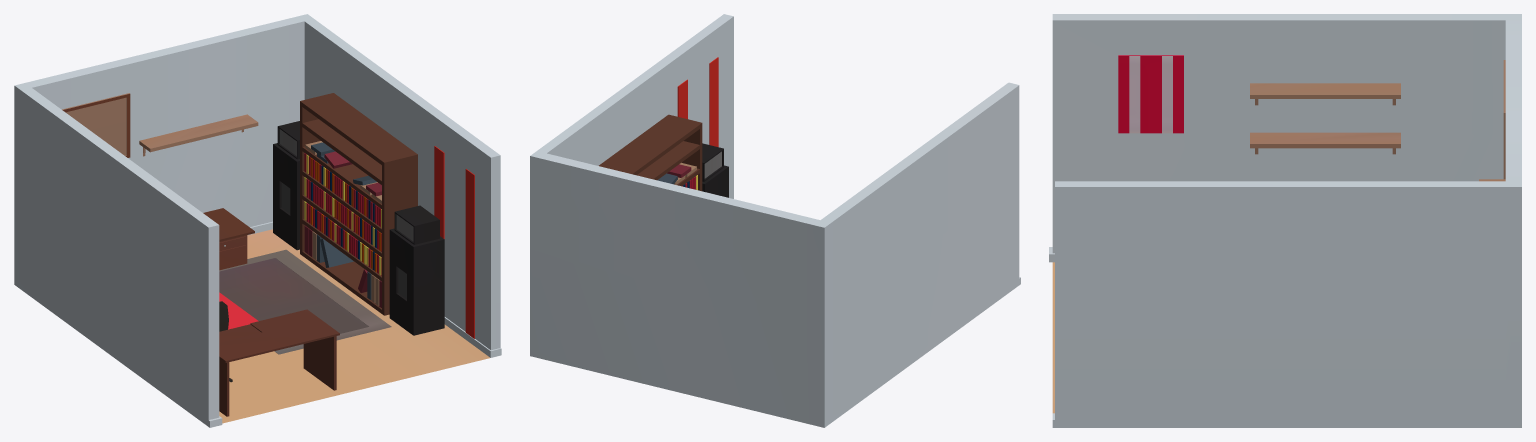
The model's file is bedroom.glb.
3 views of the same model, side by side, from view 1: azimuth 30°, elevation 25°; view 2: azimuth 150°, elevation 25°; view 3: azimuth 270°, elevation 25° (orthographic). The views are drawn at different scales.
Parts seen in each view (by area): view 1: Cube, Plane.002, Plane.003, Plane.005, Cube.005, Plane.004, Cube.004, Cube.002, Cube.003, Plane.001, Plane; view 2: Cube, Plane.002, Cube.005, Plane.005; view 3: Cube, Cube.001, Cube.003.
Boxes of the visible parts, left/top/right/bottom form: Cube: left=14, top=14, right=501, bottom=427; Plane.002: left=300, top=93, right=417, bottom=315; Plane.003: left=219, top=249, right=391, bottom=354; Plane.005: left=304, top=141, right=381, bottom=307; Cube.005: left=389, top=205, right=444, bottom=335; Plane.004: left=219, top=309, right=339, bottom=416; Cube.004: left=273, top=121, right=299, bottom=250; Cube.002: left=62, top=93, right=130, bottom=157; Cube.003: left=139, top=114, right=258, bottom=156; Plane.001: left=203, top=208, right=254, bottom=270; Plane: left=219, top=292, right=258, bottom=329; Cube: left=530, top=14, right=1020, bottom=427; Plane.002: left=599, top=114, right=702, bottom=191; Cube.005: left=702, top=143, right=728, bottom=197; Plane.005: left=657, top=162, right=697, bottom=190; Cube: left=1049, top=14, right=1521, bottom=427; Cube.001: left=1118, top=55, right=1183, bottom=133; Cube.003: left=1250, top=83, right=1505, bottom=181.
Bounding box in the file's own units: 1227 × 806 × 1418.
1 material, 1 textured.
